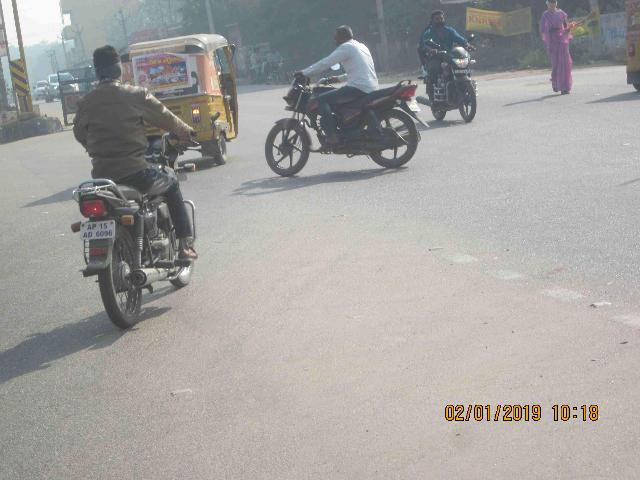motor: (71, 176, 195, 328), (265, 76, 427, 178), (425, 48, 479, 123)
non-helm: (95, 47, 124, 83), (335, 27, 354, 48), (432, 11, 446, 29)
